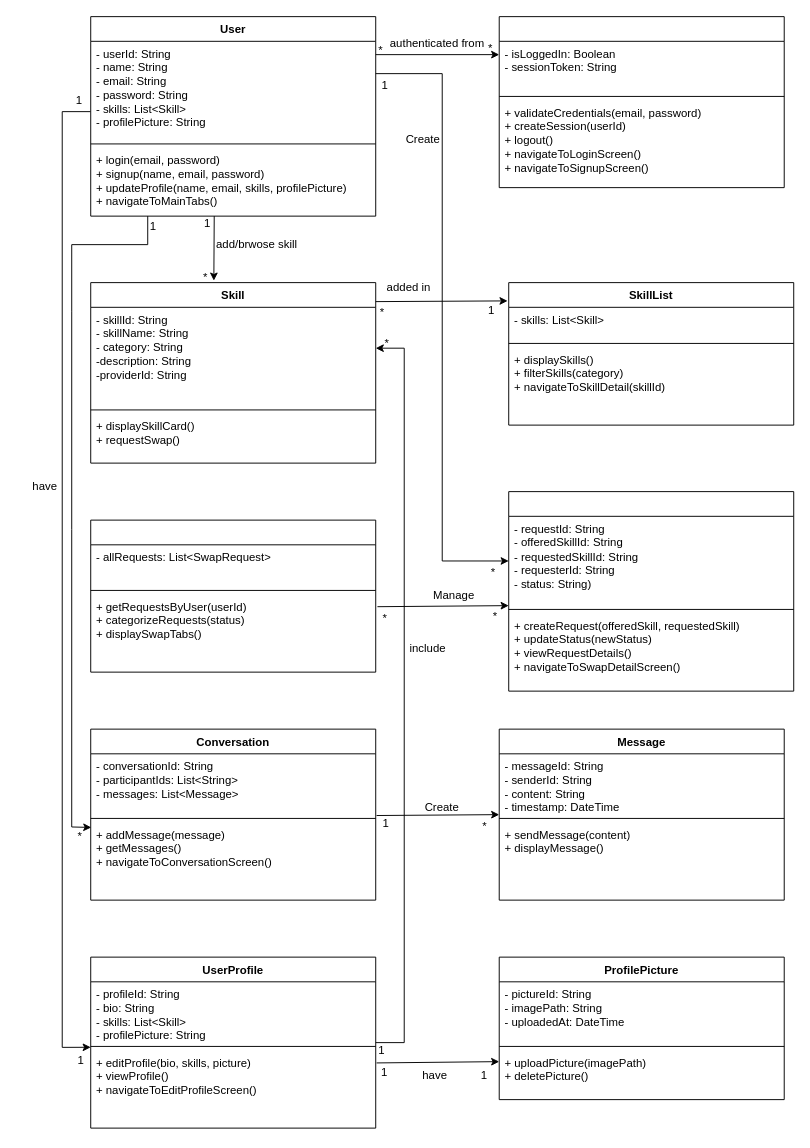
Some shapes in this 810 by 1148 pixel diagram are drawn without their labels. Each missing label, with the box of its shape:
AuthManager: (498, 16, 784, 188)
SwapManager: (90, 519, 376, 672)
SwapRequest: (508, 491, 794, 691)
